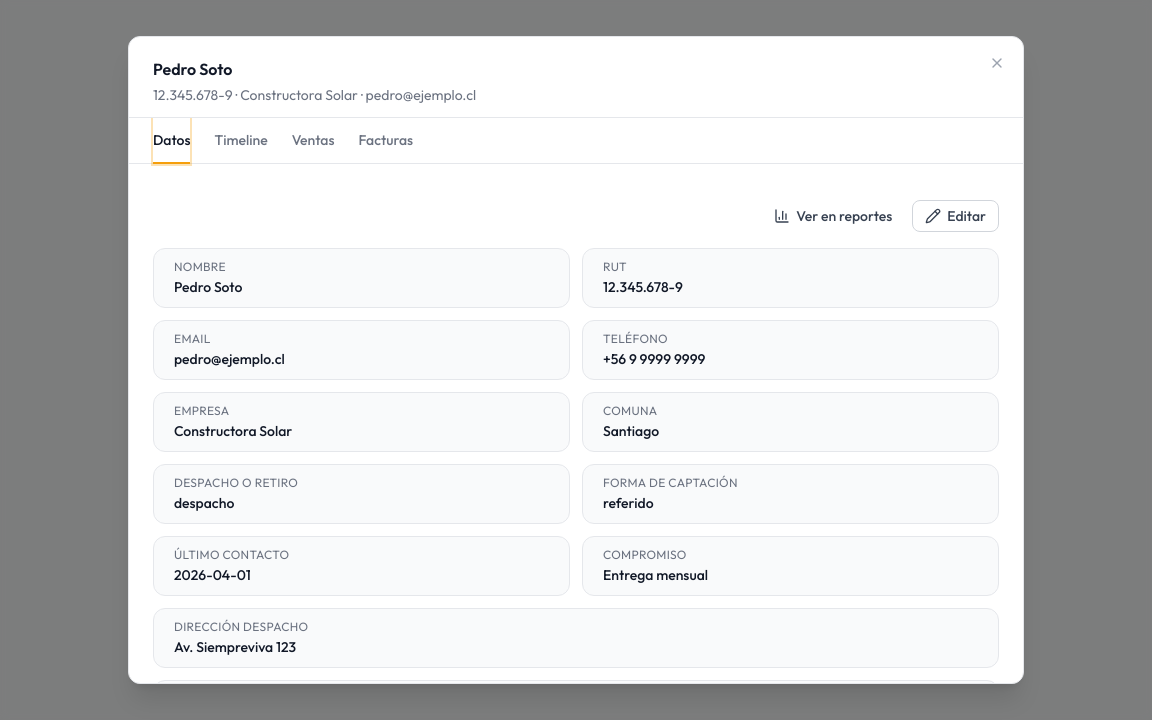
Test: ClienteDetailModal › 2. click "Timeline" tab shows Timeline empty state
The image size is (1152, 720).
Find and click the Timeline tab trigger using userEvent (handles pointer events)
Click the tab "Timeline" at [241, 141], box [214,118,268,164]
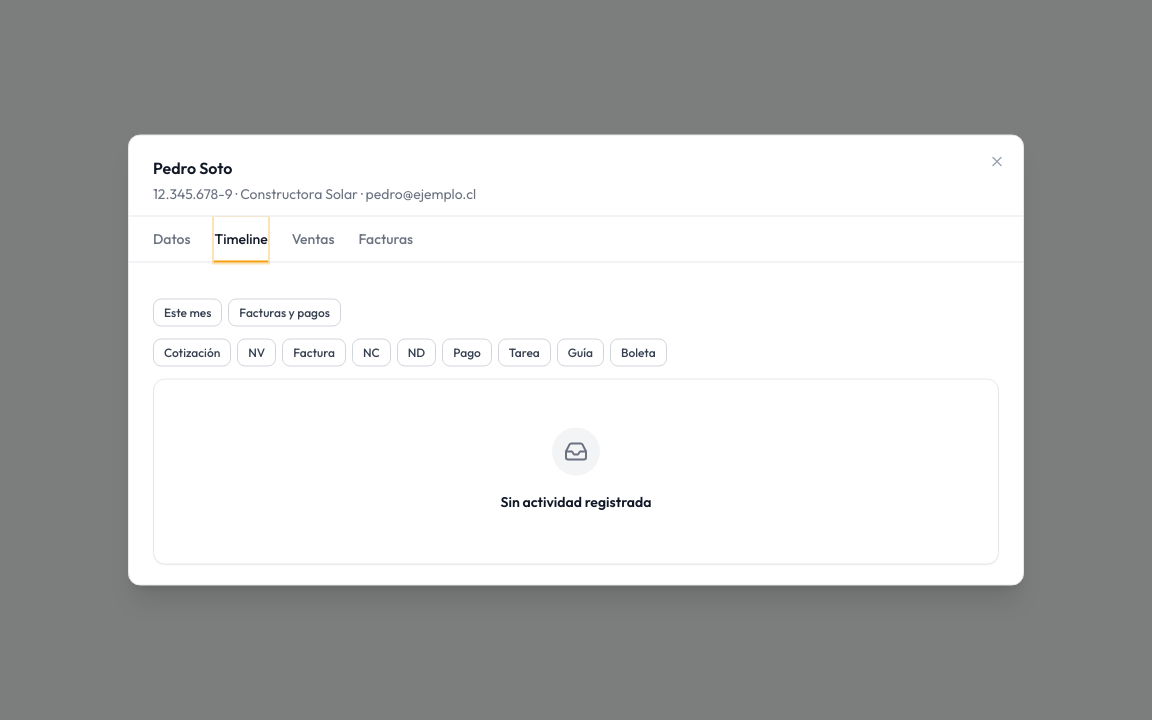
Expected: the heading "Sin actividad registrada" is shown, [500,492,652,512]
